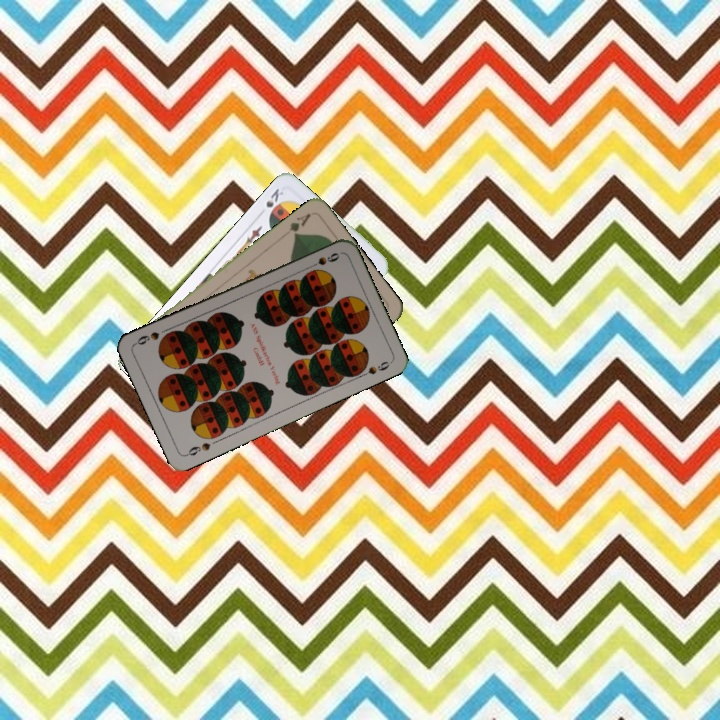GA: (280, 209, 313, 239)
S9: (304, 248, 342, 271), (182, 438, 213, 459)
SK: (262, 184, 286, 210)
